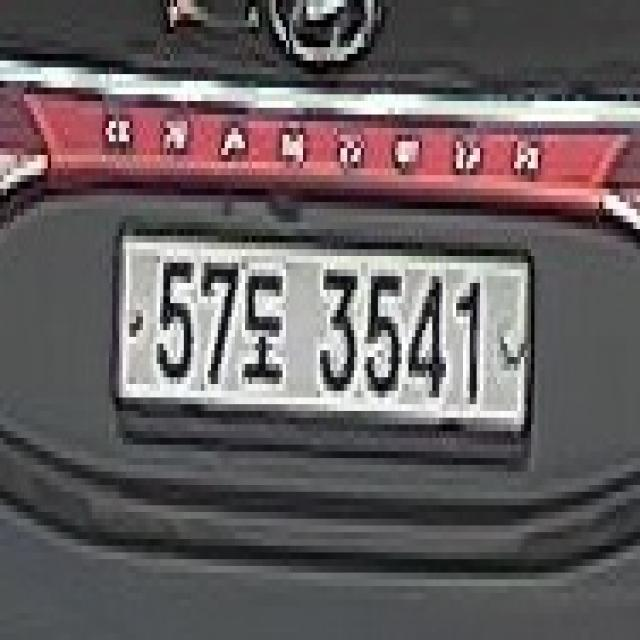1: (454, 266, 487, 409)
3: (319, 262, 359, 397)
4: (406, 265, 449, 402)
5: (154, 254, 196, 380), (366, 266, 404, 398)
7: (200, 253, 239, 384)
do: (244, 264, 292, 394)
license_plate: (111, 216, 539, 474)
